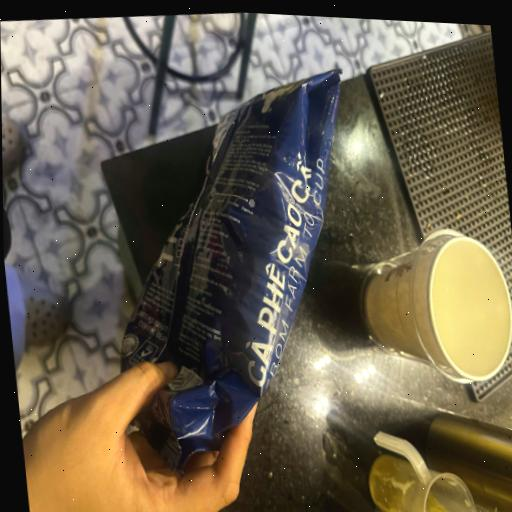cafe_hat: (121, 70, 340, 471)
